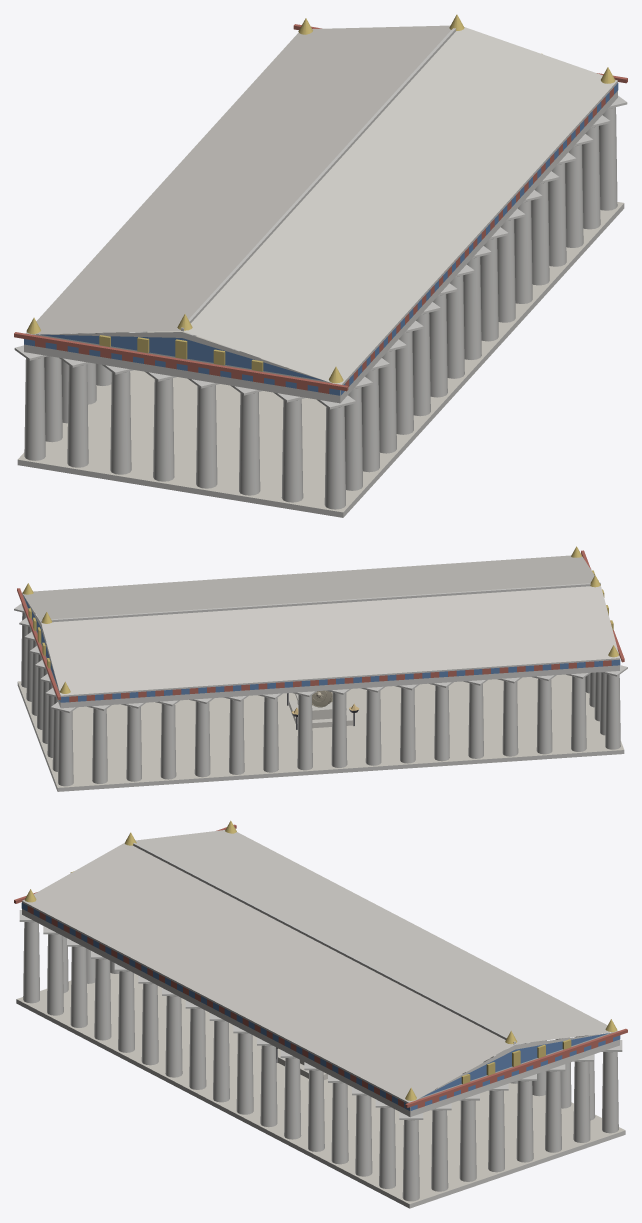
3 renders of one model, top to bottom at view 1: azimuth 30°, elevation 25°; view 2: azimuth 150°, elevation 25°; view 3: azimuth 270°, elevation 25°, orthographic. The views are drawn at different scales.
Visible parts, largest first — view 1: C05_visible; view 2: C05_visible; view 3: C05_visible.
Part boxes in pixels (x1,y1,x2,y2): C05_visible: [14, 14, 627, 517]; C05_visible: [14, 546, 627, 791]; C05_visible: [14, 820, 627, 1208].
Size of the model in its own units: 32.71 by 7.49 by 30.23.
